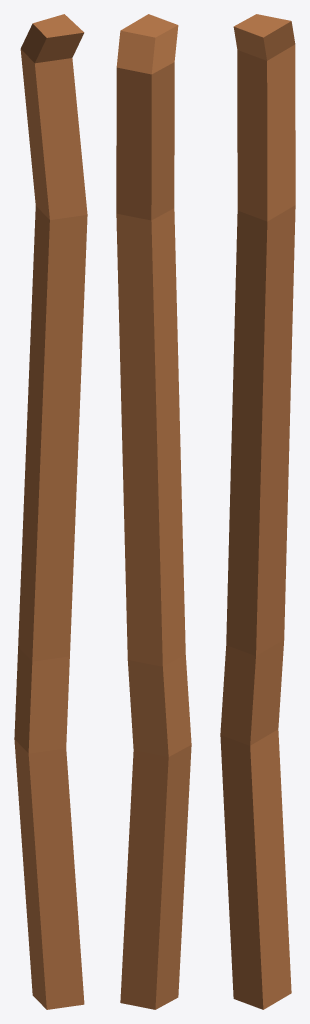
The model's file is lacune.fbx_WoodBeamSmall.fbx.
The picture shows the model from 3 angles, left to right: view 1: azimuth 30°, elevation 25°; view 2: azimuth 150°, elevation 25°; view 3: azimuth 330°, elevation 25°; orthographic projection.
Parts seen in each view (by area): view 1: WoodBeamSmall; view 2: WoodBeamSmall; view 3: WoodBeamSmall.
Boxes of the visible parts, bbox=[...] form: WoodBeamSmall: bbox=[14, 14, 87, 1009]; WoodBeamSmall: bbox=[116, 14, 191, 1009]; WoodBeamSmall: bbox=[220, 14, 295, 1009].
Size of what is drawn, in the model's own units: 2.8 by 45.52 by 2.72.
